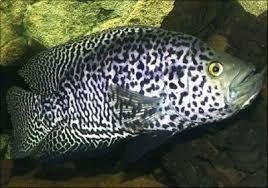Jaguar Gapote: (7, 24, 262, 172)
